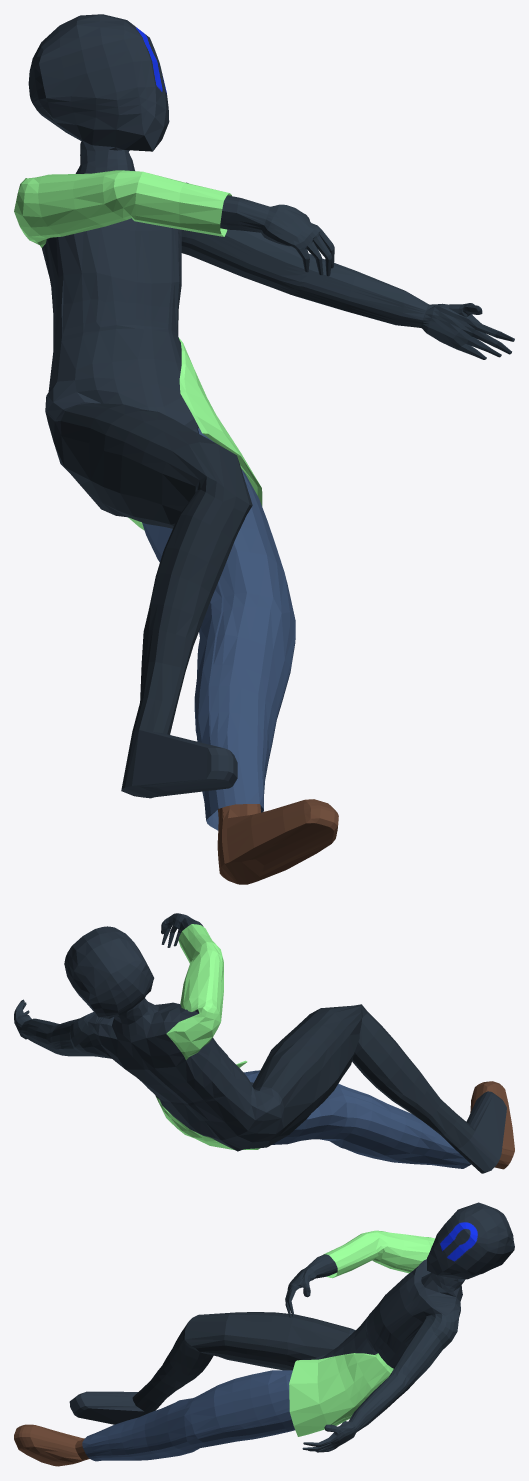
Rendered from Mar_Die_000011.obj.
3 views of the same model, one above another, from view 1: azimuth 30°, elevation 25°; view 2: azimuth 150°, elevation 25°; view 3: azimuth 270°, elevation 25° (orthographic). The views are drawn at different scales.
Visible parts, largest first — view 1: Cube.000_Cube.001; view 2: Cube.000_Cube.001; view 3: Cube.000_Cube.001.
Boxes of the visible parts, x1,y1,x2,y2 form: Cube.000_Cube.001: (14,14,514,884); Cube.000_Cube.001: (14,913,514,1173); Cube.000_Cube.001: (14,1202,514,1466).
Bounding box in the file's own units: 2.36 × 2.29 × 3.26.
